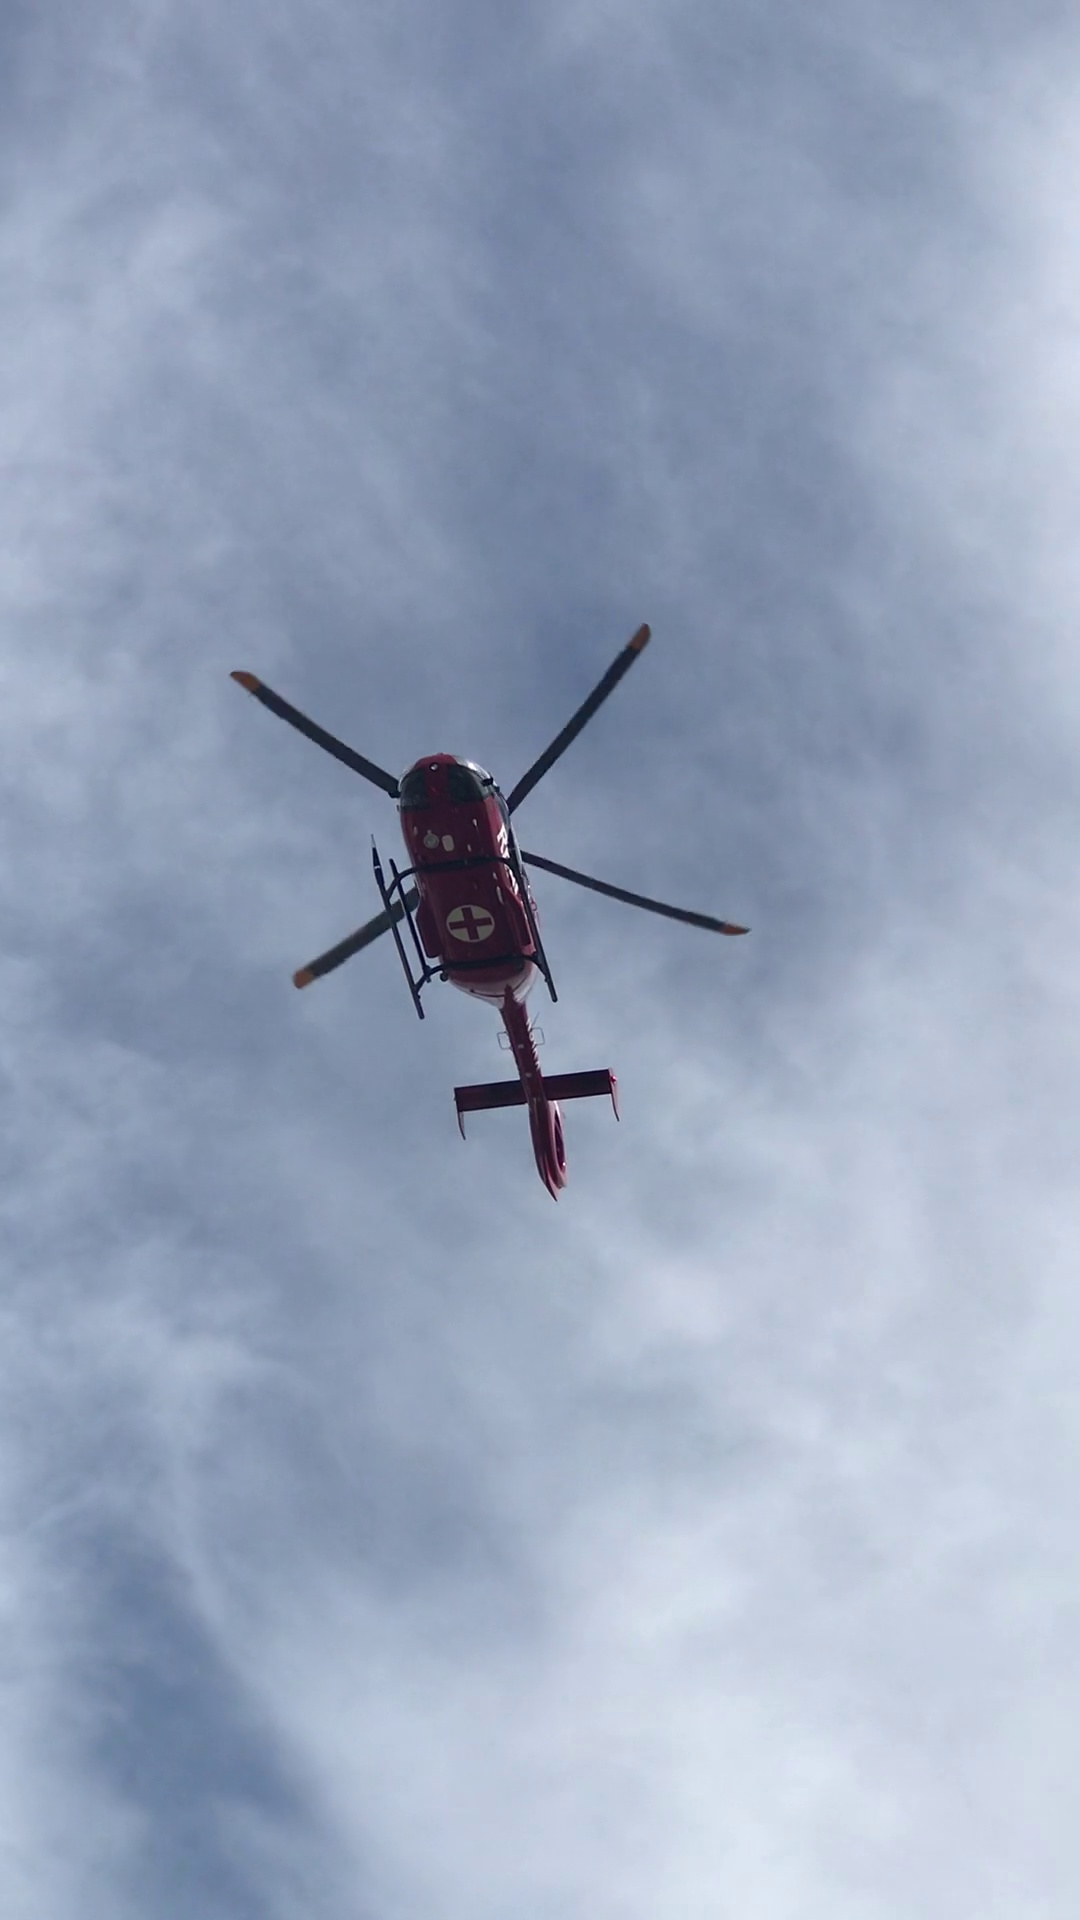heli: (227, 624, 753, 1203)
